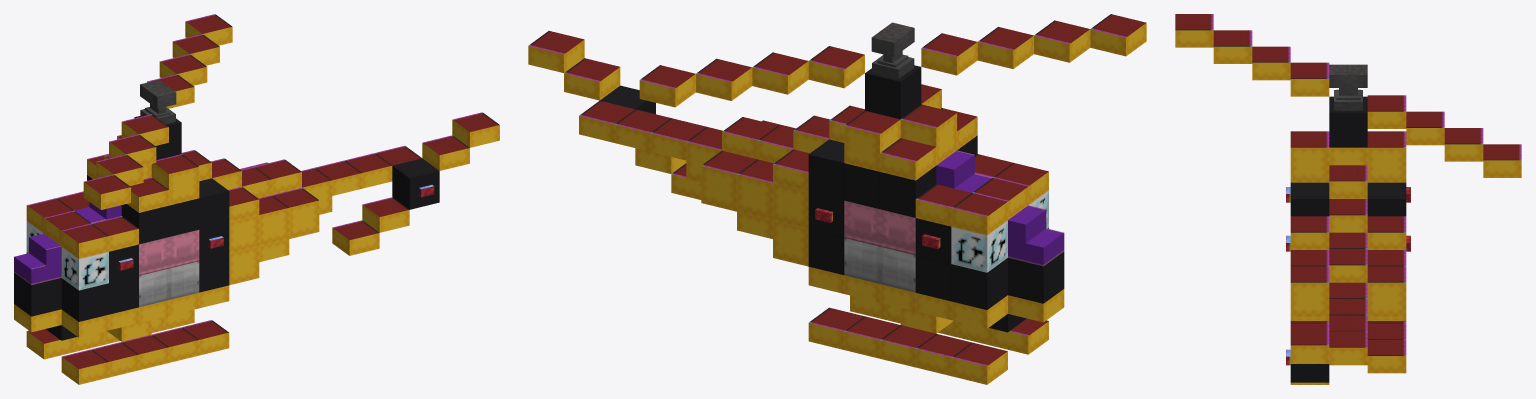
File: Mineways2Skfb.obj
3 renders of one model, left to right at view 1: azimuth 30°, elevation 25°; view 2: azimuth 150°, elevation 25°; view 3: azimuth 270°, elevation 25°, orthographic. The views are drawn at different scales.
Parts seen in each view (by area): view 1: Hauptwelt_-_Kopie__153_140_415_to_171_255_434; view 2: Hauptwelt_-_Kopie__153_140_415_to_171_255_434; view 3: Hauptwelt_-_Kopie__153_140_415_to_171_255_434.
Part boxes in pixels (x1=…): Hauptwelt_-_Kopie__153_140_415_to_171_255_434: x1=14, y1=14, x2=499, y2=384; Hauptwelt_-_Kopie__153_140_415_to_171_255_434: x1=528, y1=14, x2=1146, y2=384; Hauptwelt_-_Kopie__153_140_415_to_171_255_434: x1=1175, y1=14, x2=1521, y2=384.
Bounding box in the file's own units: 1.67 × 0.8889 × 1.
